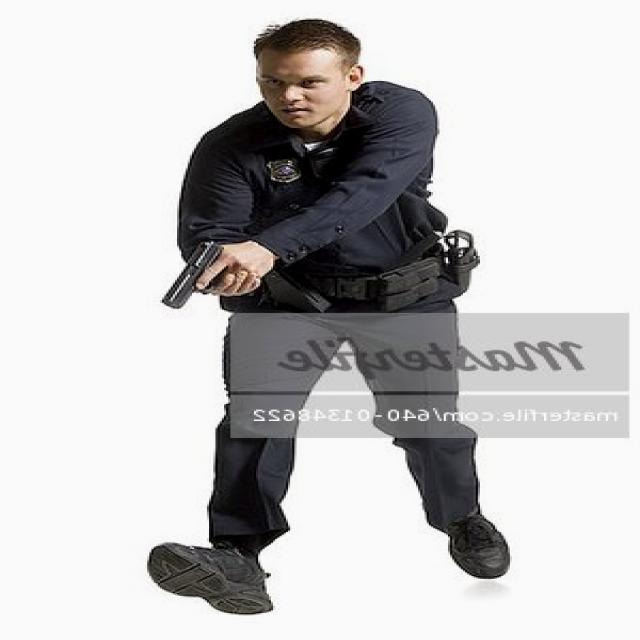pistol: (169, 232, 258, 310)
